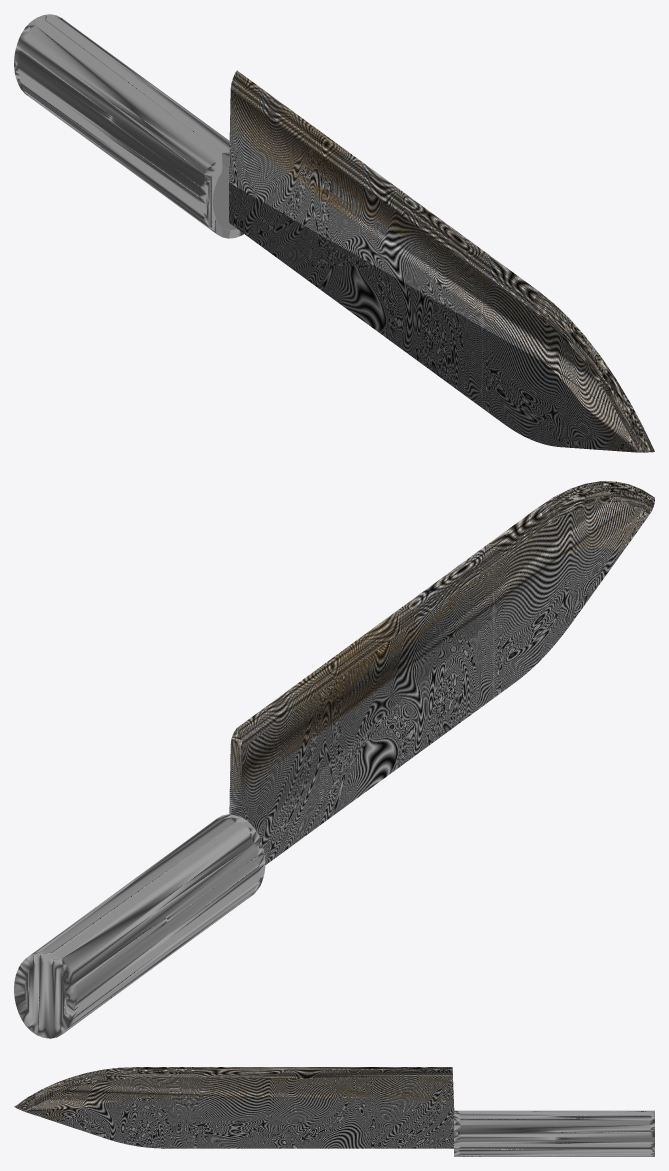
The model's file is model_align.obj.
The picture shows the model from 3 angles, top to bottom: view 1: azimuth 30°, elevation 25°; view 2: azimuth 150°, elevation 25°; view 3: azimuth 270°, elevation 25°; orthographic projection. The views are drawn at different scales.
Size of the model in its own units: 0.0125 by 0.0336 by 0.2209.
